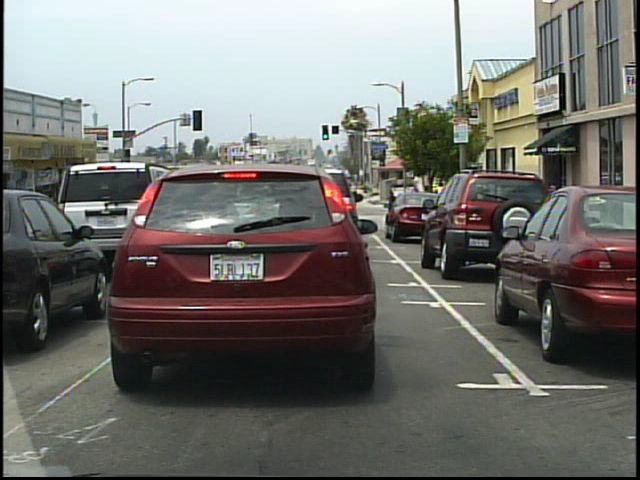person: (411, 183, 421, 213), (388, 187, 397, 218)
